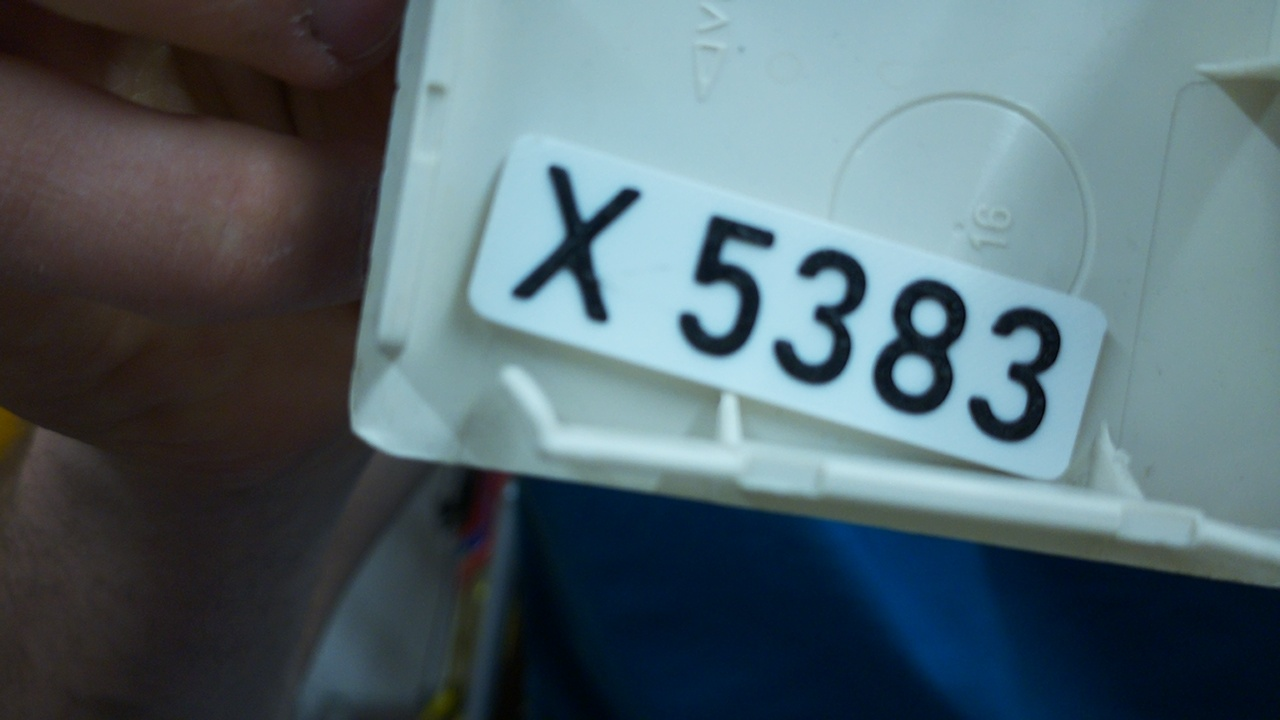license_plate: (463, 128, 1110, 485)
